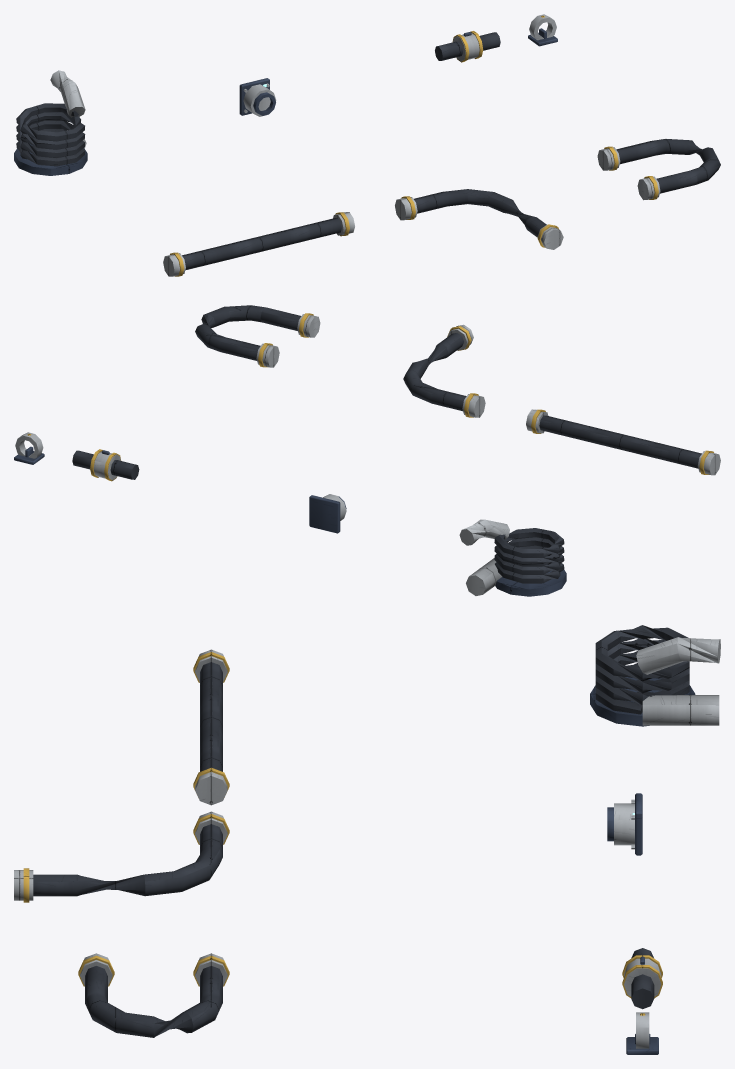
3 views of the same model, one above another, from view 1: azimuth 30°, elevation 25°; view 2: azimuth 150°, elevation 25°; view 3: azimuth 270°, elevation 25° (orthographic). The views are drawn at different scales.
Parts seen in each view (by area): view 1: DL016_CableKit_rubber_dark, DL016_CableKit_titanium, DL016_CableKit_graphite_navy, DL016_CableKit_amber_accent; view 2: DL016_CableKit_rubber_dark, DL016_CableKit_titanium, DL016_CableKit_graphite_navy, DL016_CableKit_amber_accent; view 3: DL016_CableKit_rubber_dark, DL016_CableKit_titanium, DL016_CableKit_graphite_navy, DL016_CableKit_amber_accent.
Part boxes in pixels (<box>): DL016_CableKit_rubber_dark: <box>16,32,720,270</box>; DL016_CableKit_titanium: <box>50,14,660,276</box>; DL016_CableKit_graphite_navy: <box>14,28,557,175</box>; DL016_CableKit_amber_accent: <box>170,15,658,276</box>; DL016_CableKit_rubber_dark: <box>72,305,701,583</box>; DL016_CableKit_titanium: <box>15,314,720,595</box>; DL016_CableKit_graphite_navy: <box>14,446,566,596</box>; DL016_CableKit_amber_accent: <box>27,313,713,481</box>; DL016_CableKit_rubber_dark: <box>33,625,689,1037</box>; DL016_CableKit_titanium: <box>14,637,720,1048</box>; DL016_CableKit_graphite_navy: <box>590,677,695,1054</box>; DL016_CableKit_amber_accent: <box>23,652,662,1015</box>.
Bounding box in the file's own units: 9.26 × 1.06 × 7.38.
5 materials, 4 textured.
